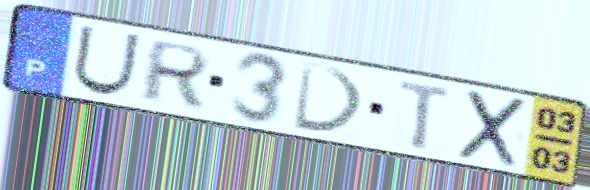3: (227, 49, 291, 131)
D: (290, 59, 370, 137)
R: (134, 37, 215, 110)
T: (396, 77, 456, 152)
U: (69, 22, 145, 97)
X: (453, 87, 532, 171)
